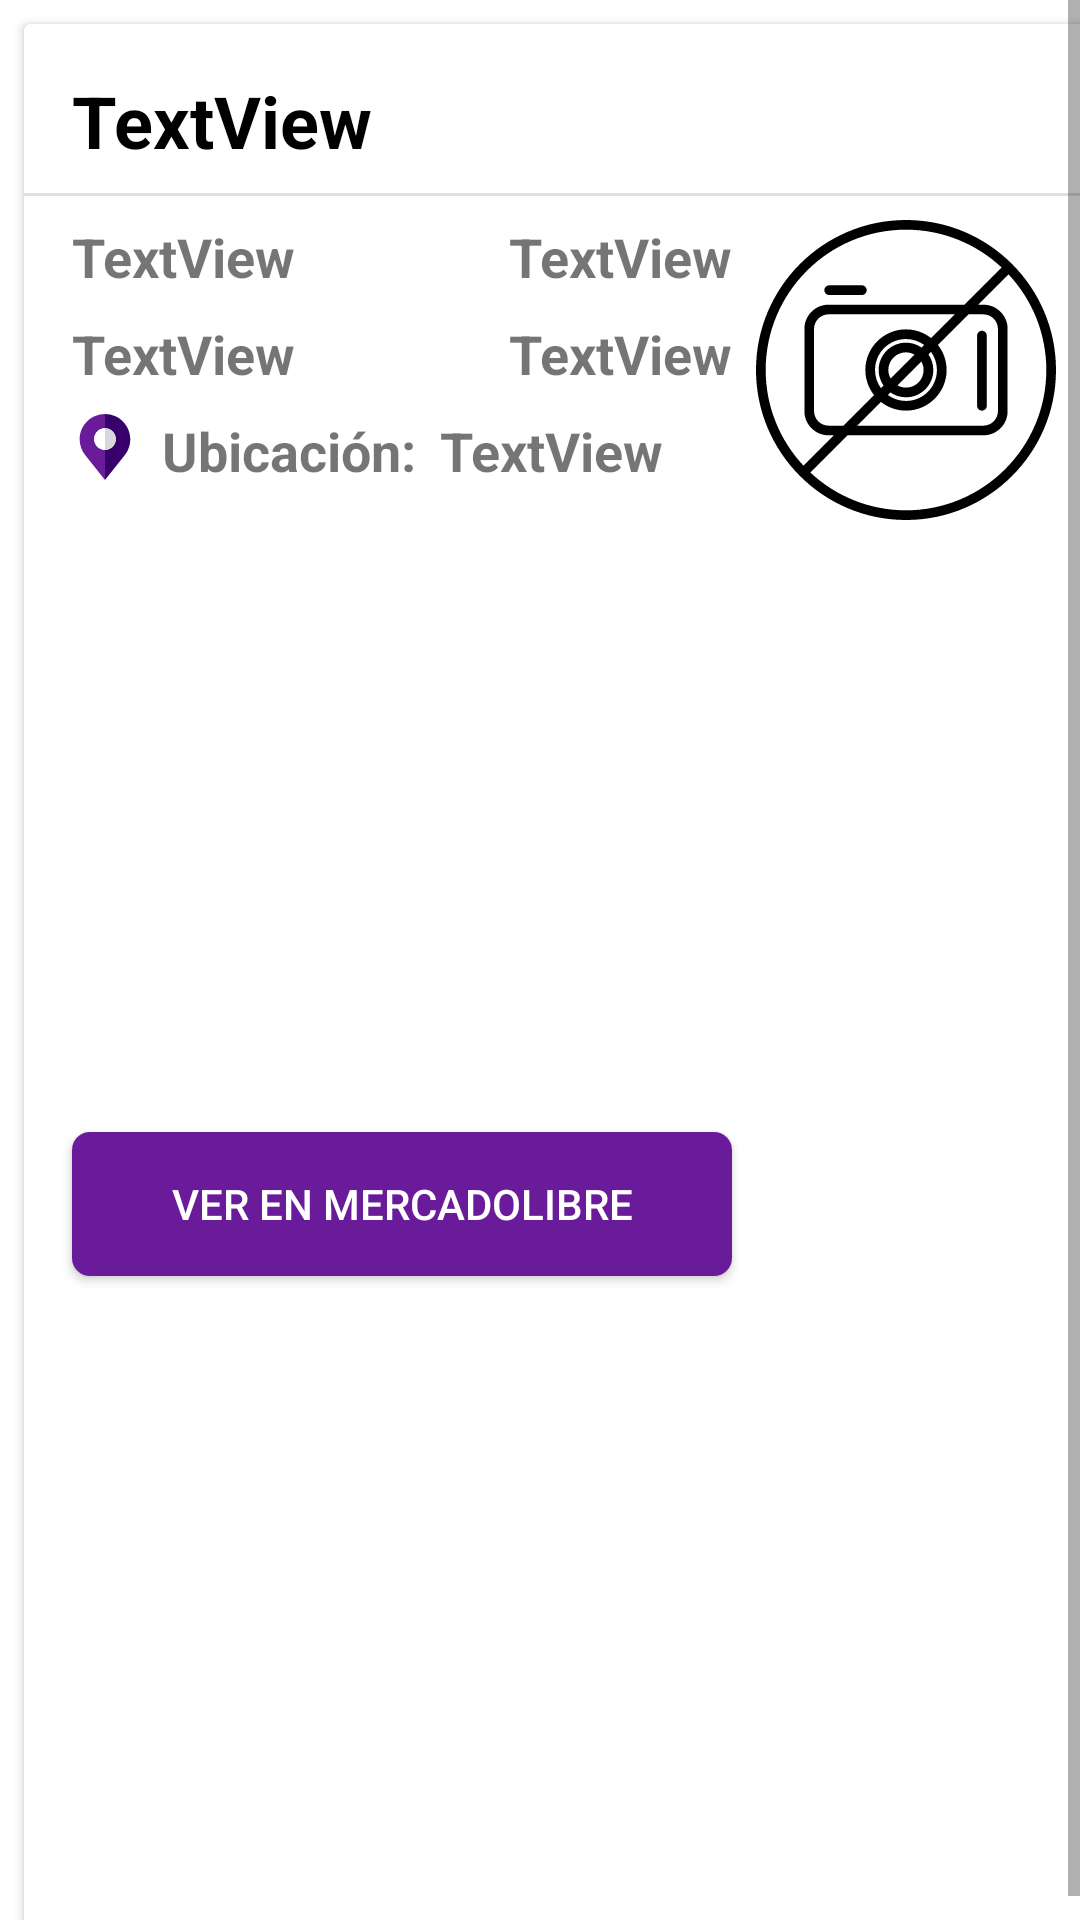

Icon click points for this 1080x1920 phone screenshot, format point (x, y):
no picture taking allowed: point (906, 370)
